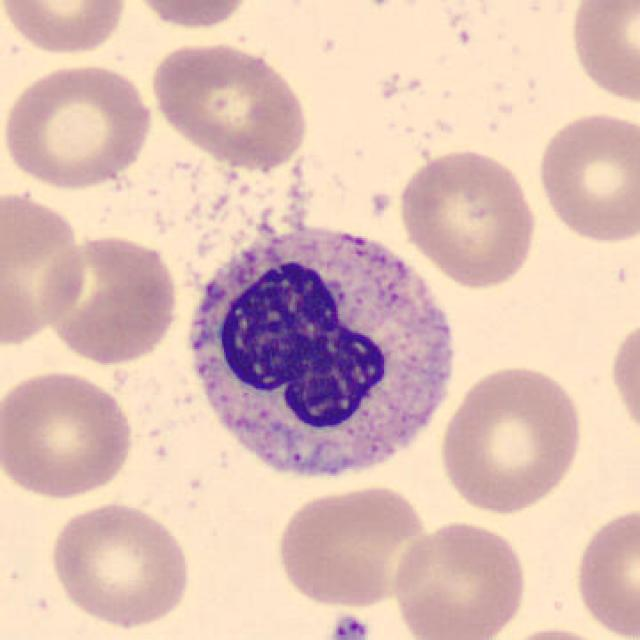Neutrophil: (176, 217, 468, 497)
Platelets: (327, 613, 369, 640)
RBC: (436, 359, 586, 516), (147, 37, 313, 169), (272, 481, 437, 610), (395, 145, 542, 289), (0, 58, 156, 192), (37, 231, 183, 367), (44, 499, 196, 629), (0, 365, 140, 501), (388, 518, 532, 640), (534, 106, 638, 247), (0, 187, 91, 347), (571, 502, 638, 638), (566, 0, 638, 108), (0, 0, 130, 58), (606, 310, 640, 450), (124, 0, 258, 32), (489, 624, 620, 640)
